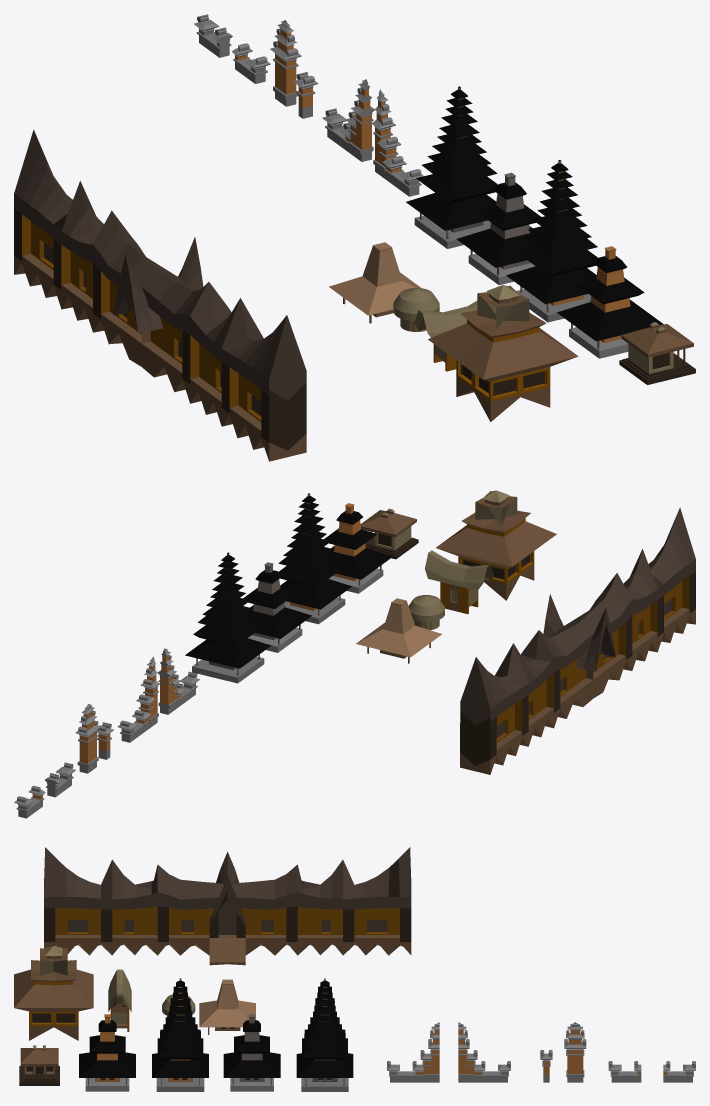
The model's file is Rumah (1).glb.
3 renders of one model, top to bottom at view 1: azimuth 30°, elevation 25°; view 2: azimuth 150°, elevation 25°; view 3: azimuth 270°, elevation 25°, orthographic. The views are drawn at different scales.
Parts seen in each view (by area): view 1: Cube.153, Cube.155, Cube.161, Cube.159, Cube.158, Cube.160, Cube.162, Cube.156, Cube.157, Cube.165, Cube.164, Cube.154 (+2 smaller); view 2: Cube.153, Cube.155, Cube.161, Cube.159, Cube.158, Cube.160, Cube.162, Cube.154, Cube.157, Cube.156, Cube.165, Cube.164 (+1 smaller); view 3: Cube.153, Cube.155, Cube.159, Cube.161, Cube.158, Cube.160, Cube.162, Cube.157, Cube.156, Cube.154, Cube.165, Cube.164.
Part boxes in pixels (left/top/right/bottom): Cube.153: left=14, top=130, right=306, bottom=461; Cube.155: left=428, top=285, right=578, bottom=421; Cube.161: left=406, top=86, right=497, bottom=248; Cube.159: left=506, top=160, right=598, bottom=322; Cube.158: left=557, top=246, right=663, bottom=358; Cube.160: left=456, top=172, right=540, bottom=285; Cube.162: left=322, top=79, right=423, bottom=196; Cube.156: left=619, top=322, right=695, bottom=384; Cube.157: left=329, top=242, right=421, bottom=323; Cube.165: left=194, top=14, right=270, bottom=83; Cube.164: left=270, top=20, right=301, bottom=106; Cube.154: left=414, top=301, right=477, bottom=371; Cube.153: left=460, top=507, right=695, bottom=774; Cube.155: left=436, top=490, right=556, bottom=600; Cube.161: left=185, top=552, right=271, bottom=683; Cube.159: left=278, top=493, right=351, bottom=624; Cube.158: left=324, top=503, right=392, bottom=593; Cube.160: left=243, top=562, right=311, bottom=652; Cube.162: left=117, top=648, right=199, bottom=742; Cube.154: left=425, top=550, right=493, bottom=613; Cube.157: left=356, top=598, right=442, bottom=663; Cube.156: left=360, top=508, right=418, bottom=559; Cube.165: left=14, top=762, right=75, bottom=818; Cube.164: left=75, top=704, right=100, bottom=773; Cube.153: left=44, top=847, right=411, bottom=965; Cube.155: left=14, top=946, right=93, bottom=1040; Cube.159: left=152, top=978, right=208, bottom=1091; Cube.161: left=296, top=978, right=353, bottom=1091; Cube.158: left=79, top=1014, right=135, bottom=1091; Cube.160: left=223, top=1014, right=280, bottom=1091; Cube.162: left=387, top=1022, right=510, bottom=1082; Cube.157: left=199, top=979, right=255, bottom=1034; Cube.156: left=19, top=1045, right=59, bottom=1085; Cube.154: left=108, top=969, right=131, bottom=1031; Cube.165: left=608, top=1061, right=695, bottom=1082; Cube.164: left=564, top=1022, right=586, bottom=1082.
Size of the model in its own units: 363 by 118 by 683.
